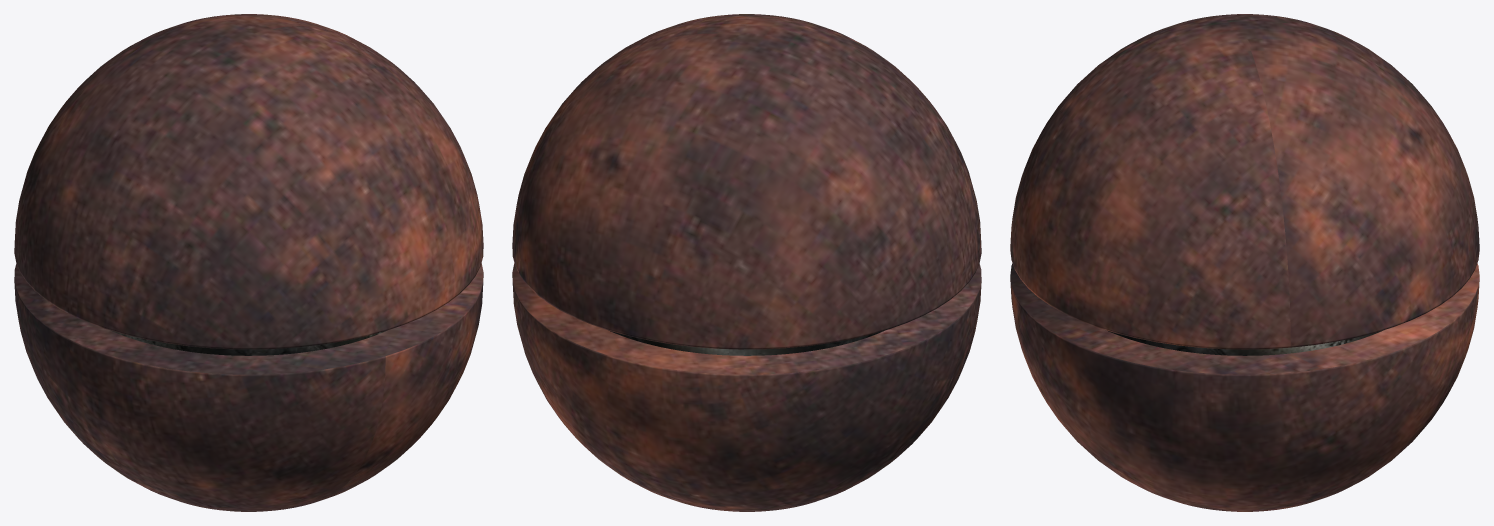
Rendered from droid_anim_000000.obj.
3 renders of one model, left to right at view 1: azimuth 30°, elevation 25°; view 2: azimuth 150°, elevation 25°; view 3: azimuth 270°, elevation 25°, orthographic.
Visible parts, largest first — view 1: Sphere.004, Sphere.005, Cylinder.002; view 2: Sphere.004, Sphere.005, Cylinder.002; view 3: Sphere.004, Sphere.005, Cylinder.002.
Boxes of the visible parts, box(x1,y1,x2,y2) form: Sphere.004: box(14, 14, 483, 349); Sphere.005: box(14, 263, 483, 511); Cylinder.002: box(111, 330, 385, 355); Sphere.004: box(512, 14, 981, 349); Sphere.005: box(512, 263, 981, 511); Cylinder.002: box(610, 330, 884, 355); Sphere.004: box(1010, 14, 1479, 349); Sphere.005: box(1010, 263, 1479, 511); Cylinder.002: box(1107, 330, 1382, 355).
Bounding box in the file's own units: 2 × 2.14 × 2.
Materials: 3 (3 with a texture image).
